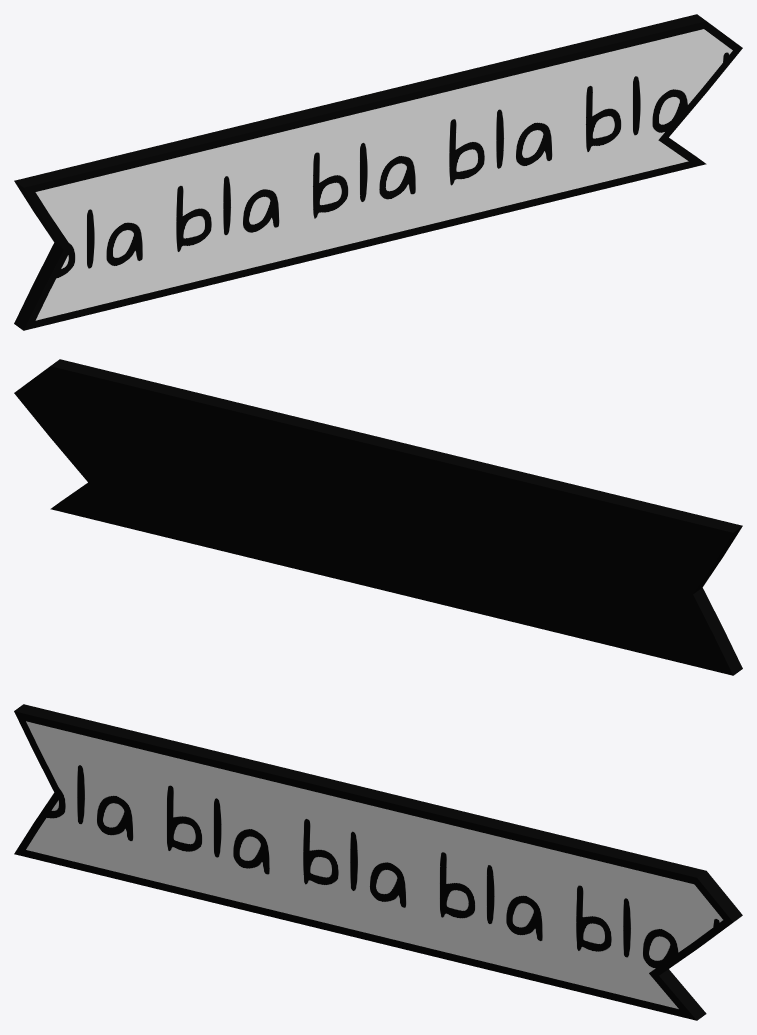
File: mdl_poland_poempieces_9.gltf
3 views of the same model, one above another, from view 1: azimuth 30°, elevation 25°; view 2: azimuth 150°, elevation 25°; view 3: azimuth 330°, elevation 25° (orthographic).
Parts seen in each view (by area): view 1: Plane.011; view 2: Plane.011; view 3: Plane.011.
Part boxes in pixels (x1,y1,x2,y2): Plane.011: (14, 14, 742, 330); Plane.011: (14, 359, 742, 675); Plane.011: (14, 704, 742, 1020).
Bounding box in the file's own units: 1.32 × 0.25 × 0.0304.
Materials: 2 (2 with a texture image).
